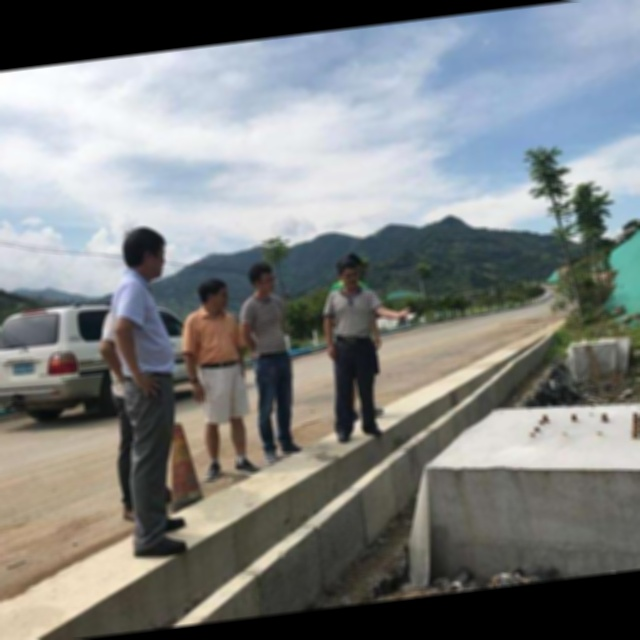Sin_Chaleco: (182, 305, 248, 376), (322, 285, 384, 351), (238, 293, 292, 357)
